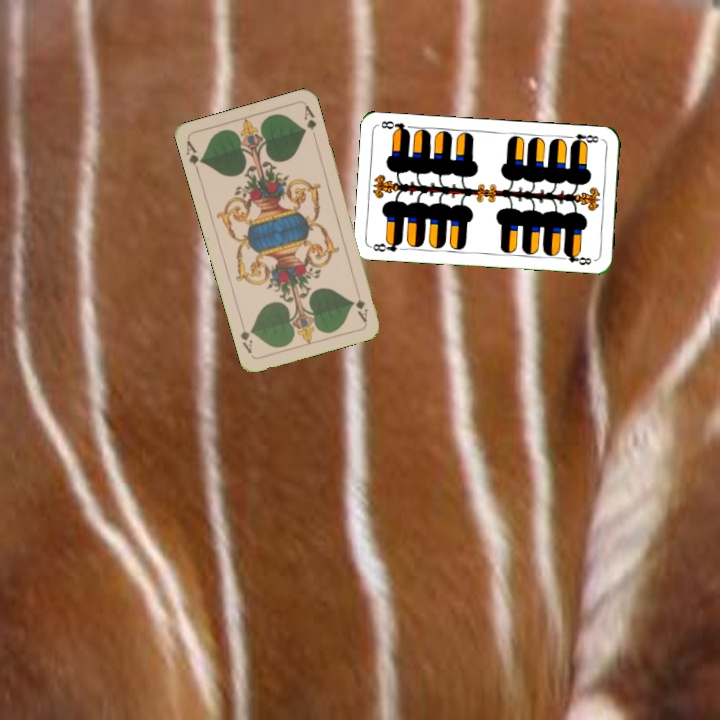E8: (564, 130, 601, 148), (368, 236, 405, 254)
GA: (182, 137, 206, 176), (352, 284, 371, 325)
